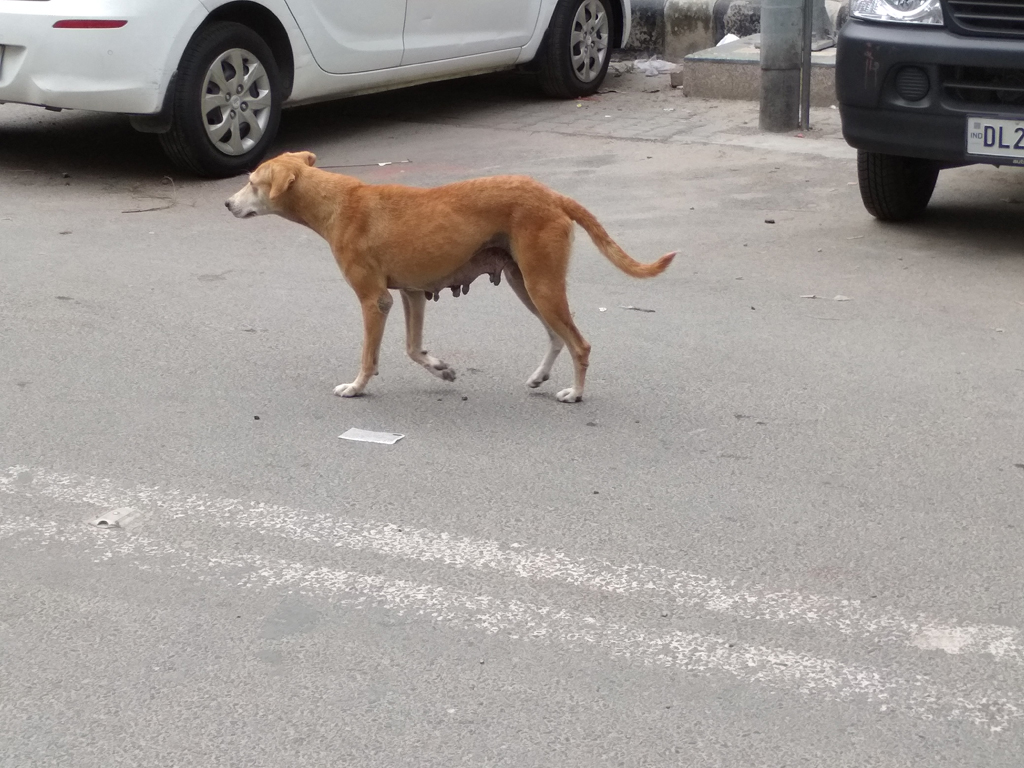dog: (225, 149, 683, 404)
